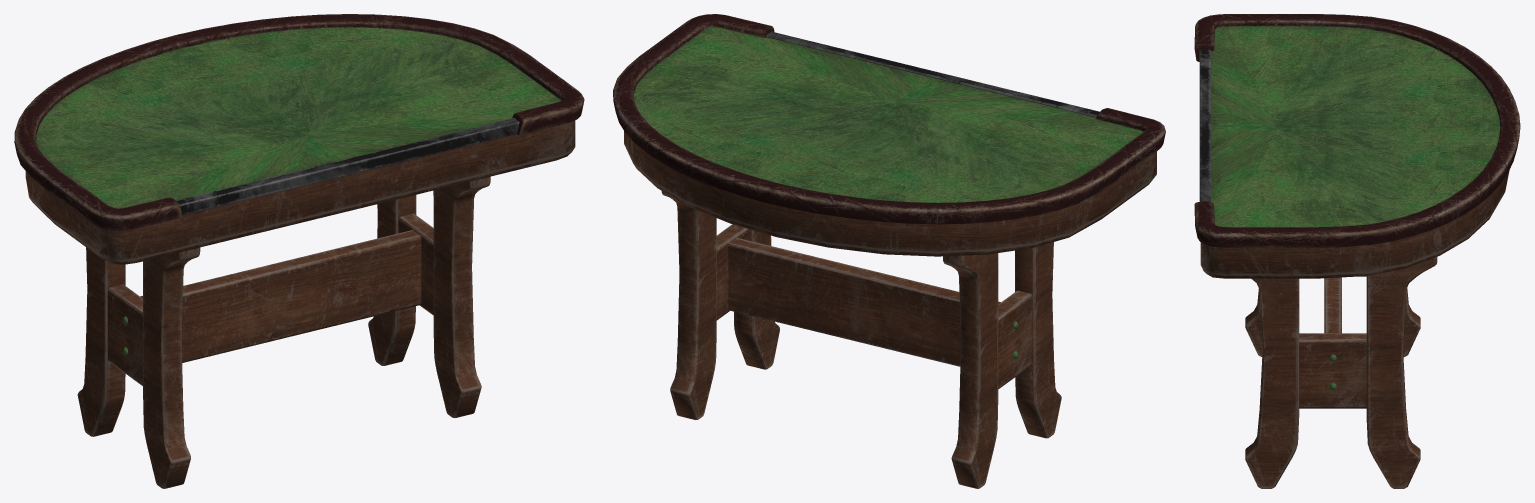
File: Blackjack_Table.fbx
3 views of the same model, side by side, from view 1: azimuth 30°, elevation 25°; view 2: azimuth 150°, elevation 25°; view 3: azimuth 270°, elevation 25° (orthographic). The views are drawn at different scales.
Parts seen in each view (by area): view 1: Blackjack_Table; view 2: Blackjack_Table; view 3: Blackjack_Table.
Boxes of the visible parts, x1=… form: Blackjack_Table: x1=14, y1=14, x2=584, y2=488; Blackjack_Table: x1=613, y1=14, x2=1165, y2=488; Blackjack_Table: x1=1194, y1=14, x2=1520, y2=488.
Bounding box in the file's own units: 119 × 73.93 × 74.02.
